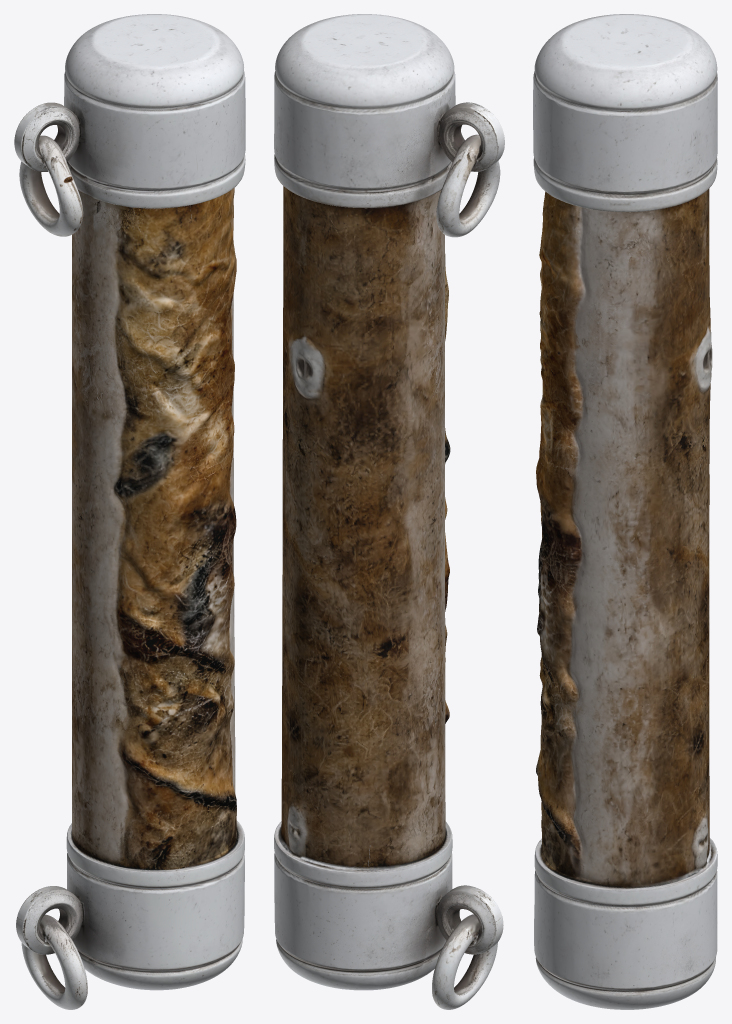
Rendered from e4takruthd.glb.
3 views of the same model, side by side, from view 1: azimuth 30°, elevation 25°; view 2: azimuth 150°, elevation 25°; view 3: azimuth 270°, elevation 25° (orthographic). The views are drawn at different scales.
Size of the model in its own units: 0.2398 by 1 by 0.1742.
Materials: 1 (1 with a texture image).
